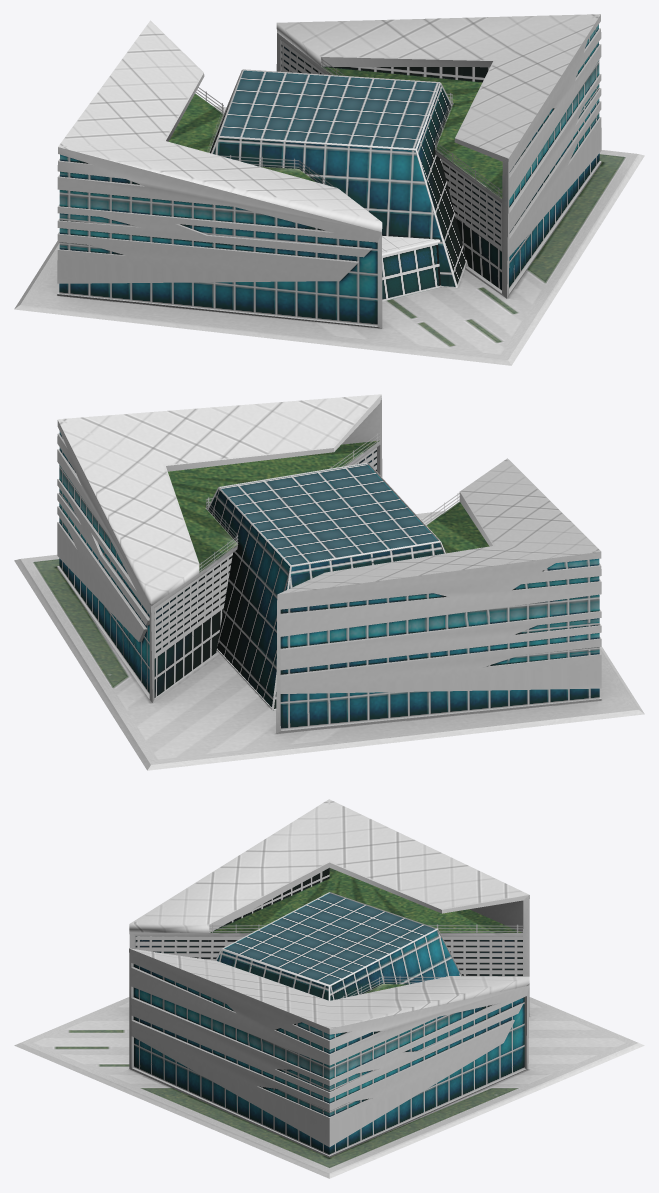
Rendered from nodeul-pavilion.glb.
3 views of the same model, one above another, from view 1: azimuth 30°, elevation 25°; view 2: azimuth 150°, elevation 25°; view 3: azimuth 270°, elevation 25° (orthographic). The views are drawn at different scales.
Visible parts, largest first — view 1: cement, glass, base, railing; view 2: cement, glass, base, railing; view 3: cement, glass, base, railing.
Part boxes in pixels (bbox=[...]): cement: bbox=[57, 14, 601, 328]; glass: bbox=[59, 24, 599, 325]; base: bbox=[14, 106, 644, 365]; railing: bbox=[196, 58, 501, 197]; cement: bbox=[57, 394, 601, 733]; glass: bbox=[59, 431, 599, 729]; base: bbox=[14, 510, 644, 770]; railing: bbox=[199, 432, 459, 571]; cement: bbox=[129, 799, 529, 1157]; glass: bbox=[133, 868, 524, 1155]; base: bbox=[14, 997, 644, 1178]; railing: bbox=[209, 924, 522, 998].
Bounding box in the file's own units: 5.78 × 1.33 × 5.78.
3 materials, 3 textured.
